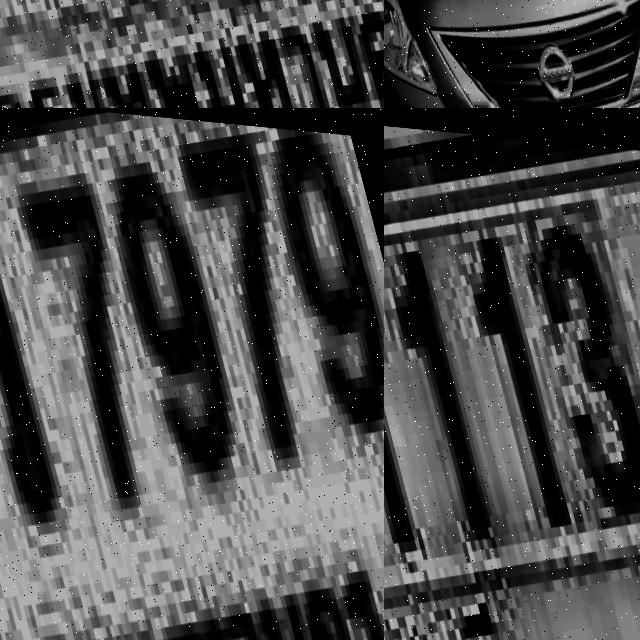license-plate: (0, 108, 384, 640), (384, 108, 640, 640), (0, 0, 384, 108)
